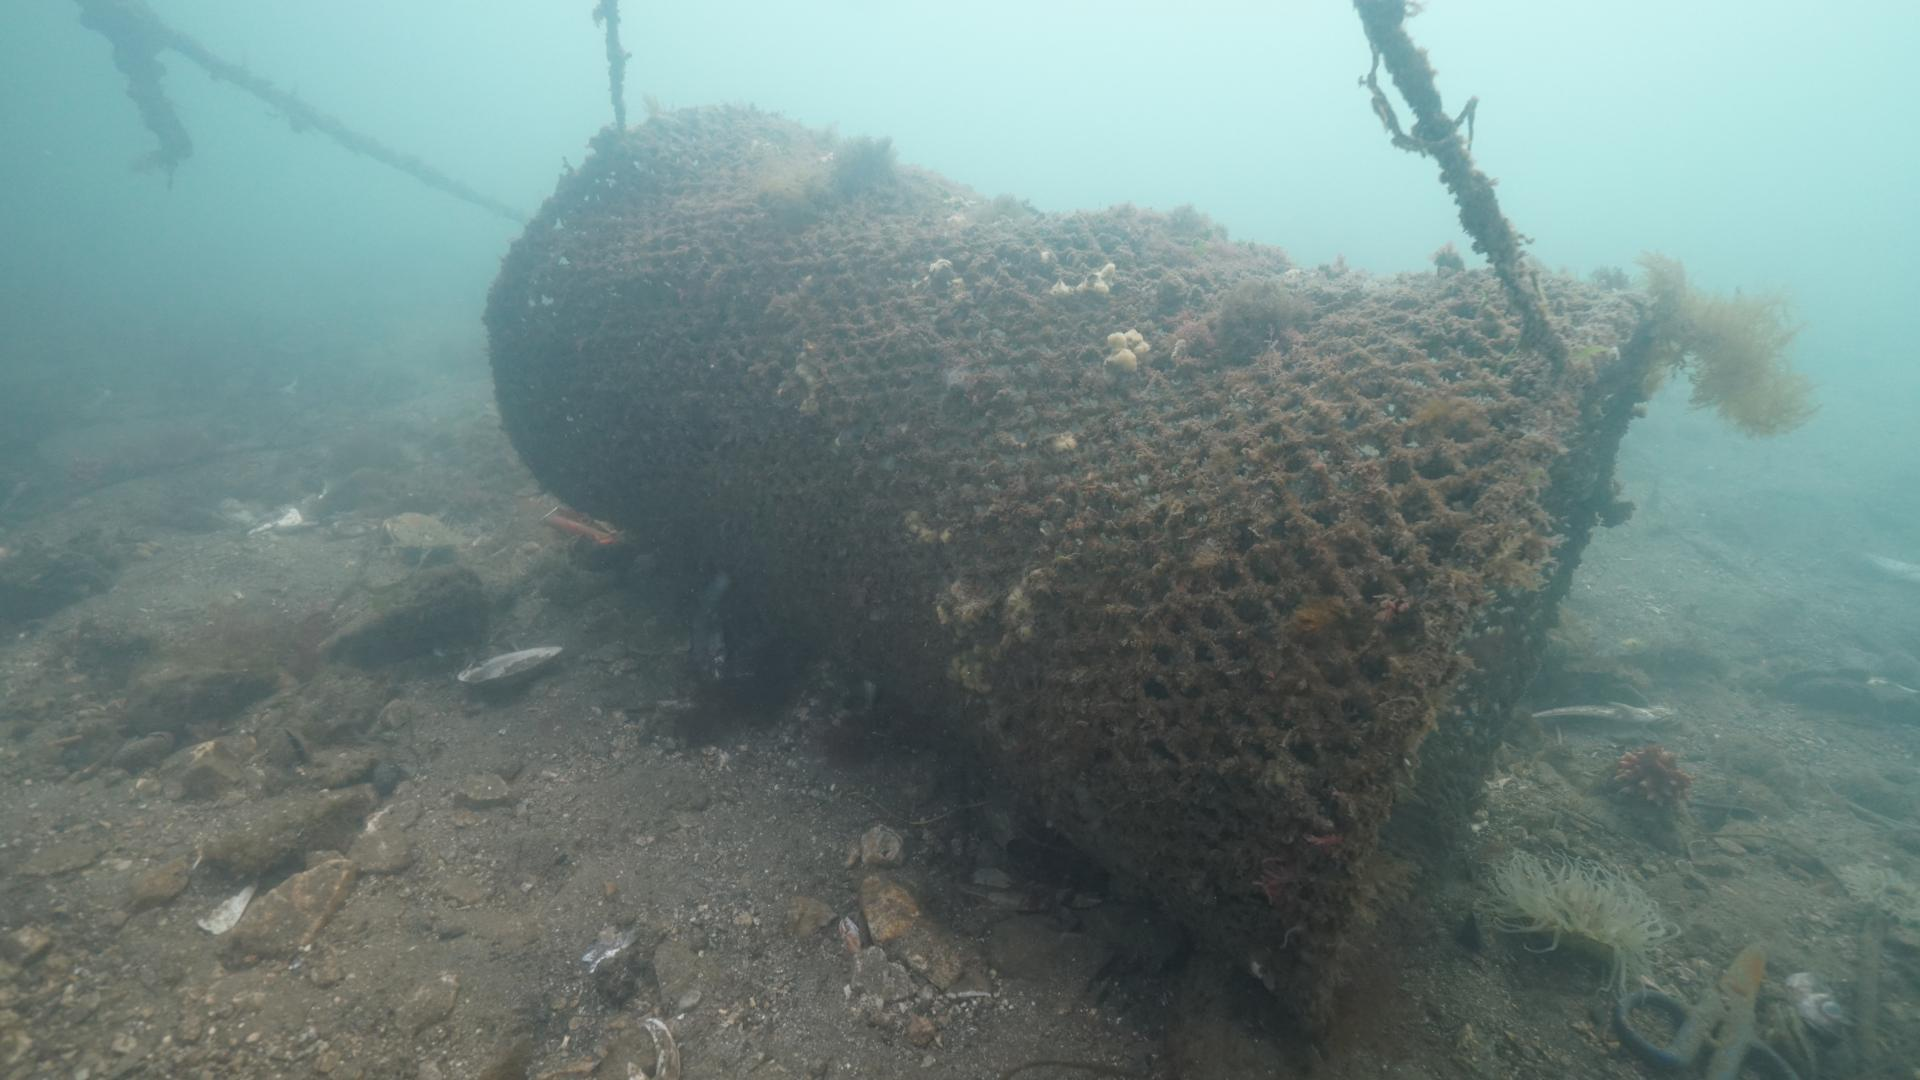rope: (1364, 0, 1572, 377), (157, 33, 533, 225), (603, 0, 630, 132)
spring fish trap: (485, 98, 1671, 1048)
